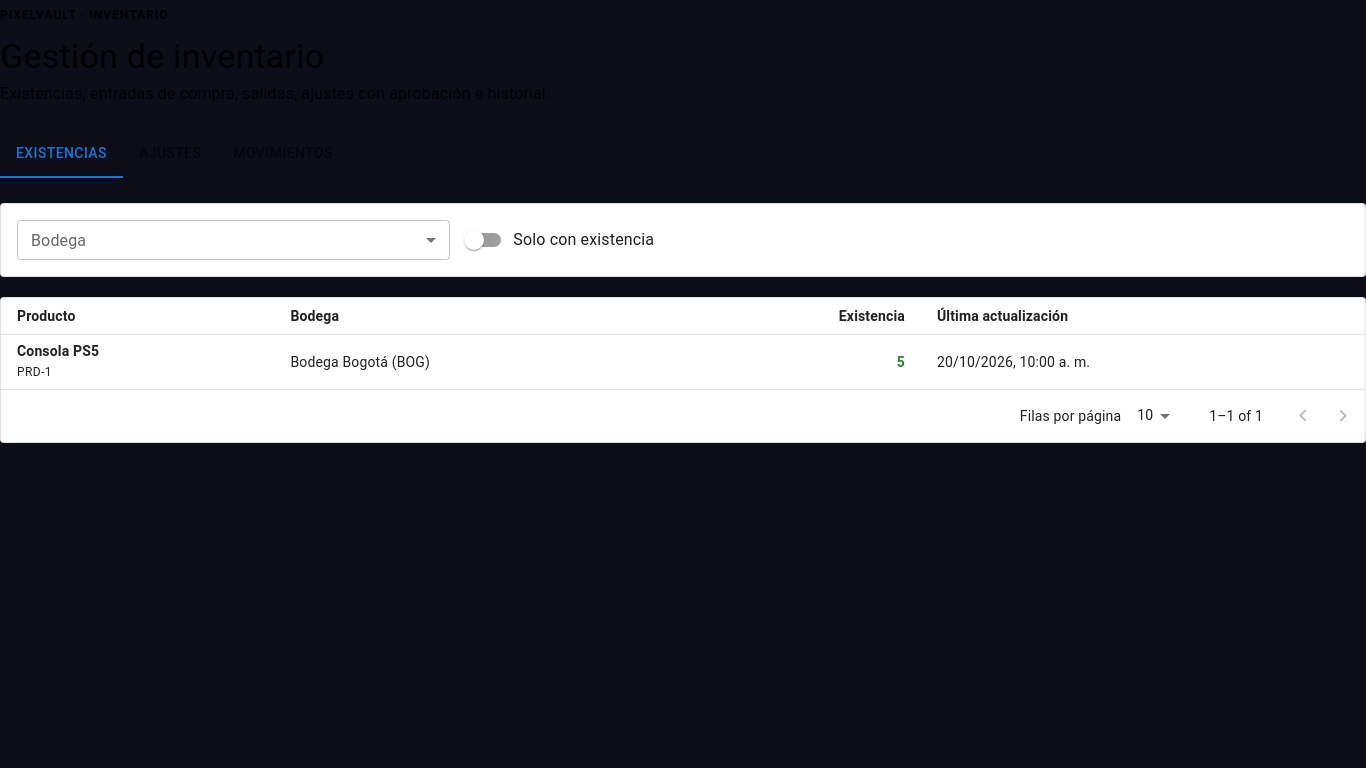
InventoryPage › works for the technical expert even when optional references are forbidden
Expected: the text "Consola PS5" is shown, [17,343,99,359]
Click the tab "Ajustes" at (170, 154), box [123,130,217,178]
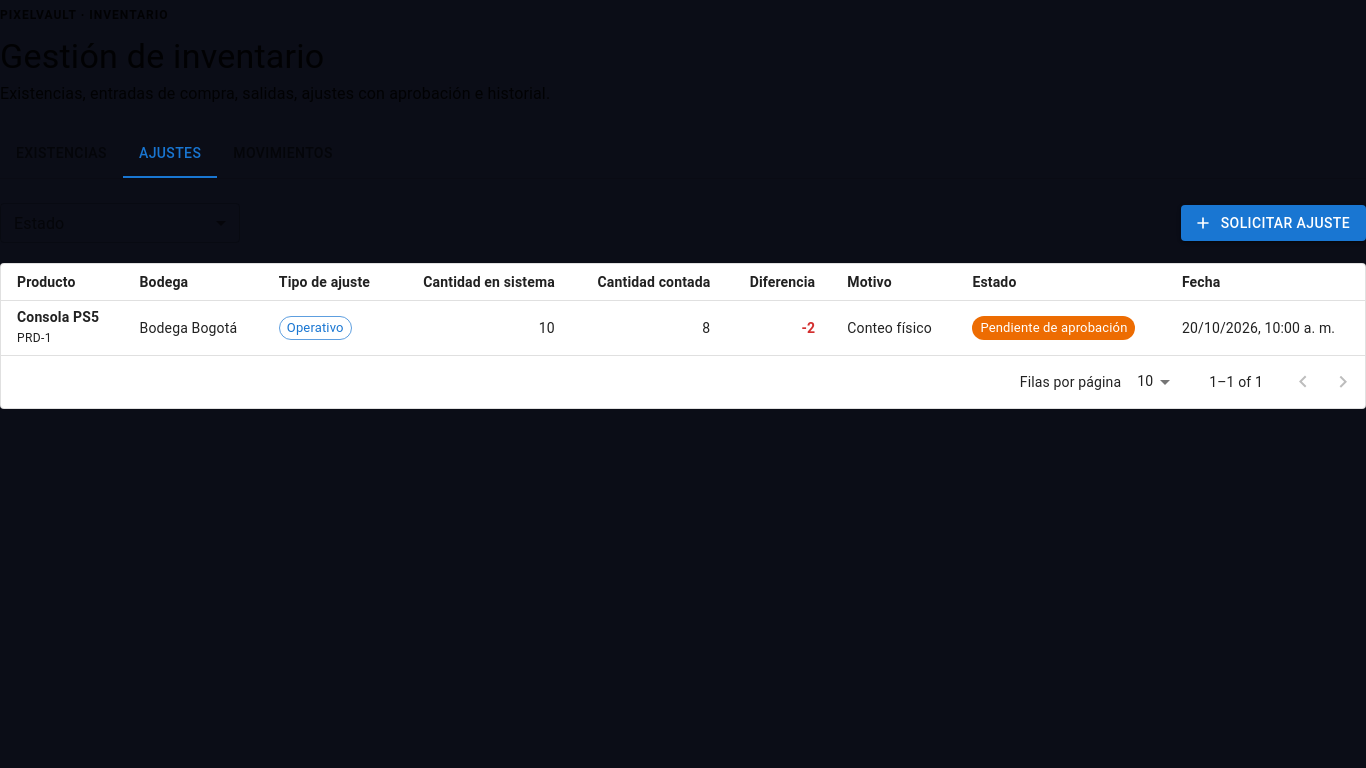
Click the button "Solicitar ajuste" at (1273, 223), box [1181,205,1365,241]
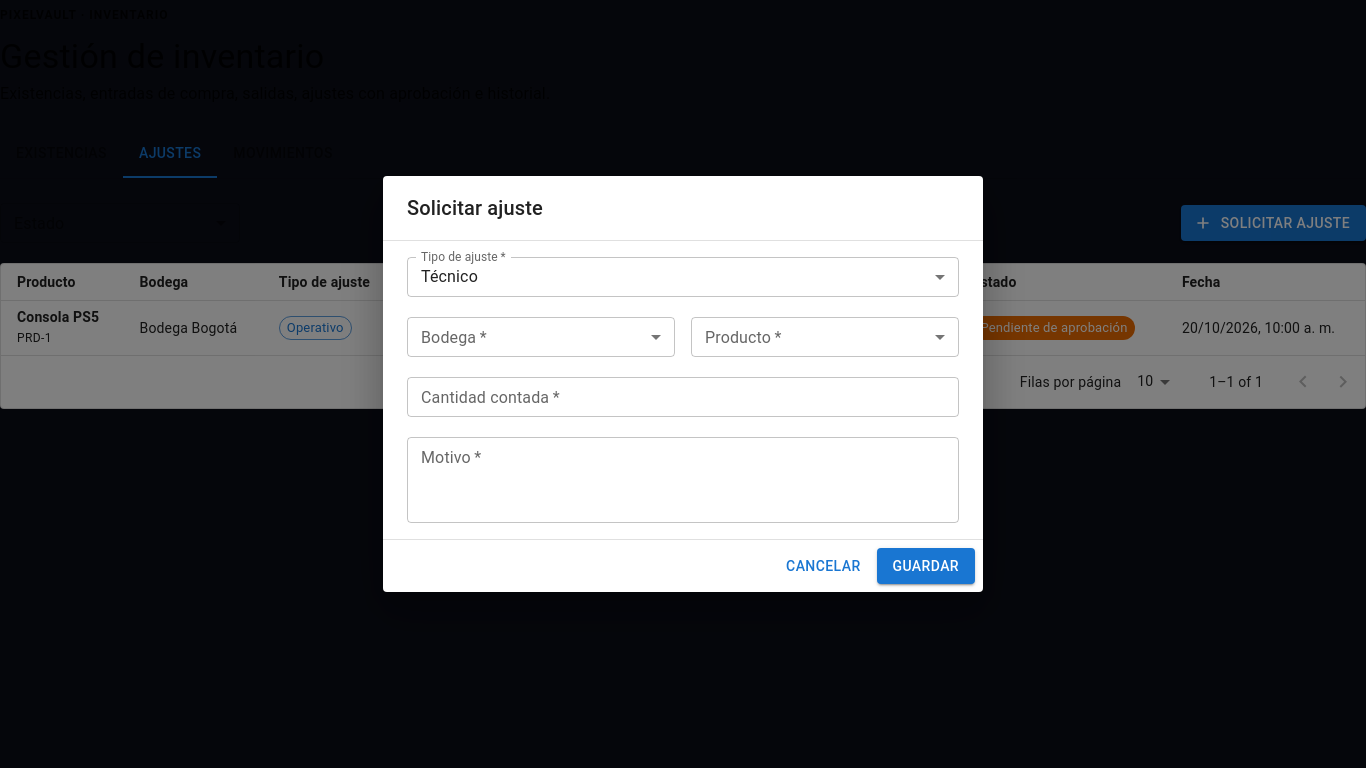
Result: the dropdown named "Tipo de ajuste" reads "Técnico" at [421,267,478,286]
Click the button "Guardar" at (926, 566), box [876,548,975,584]
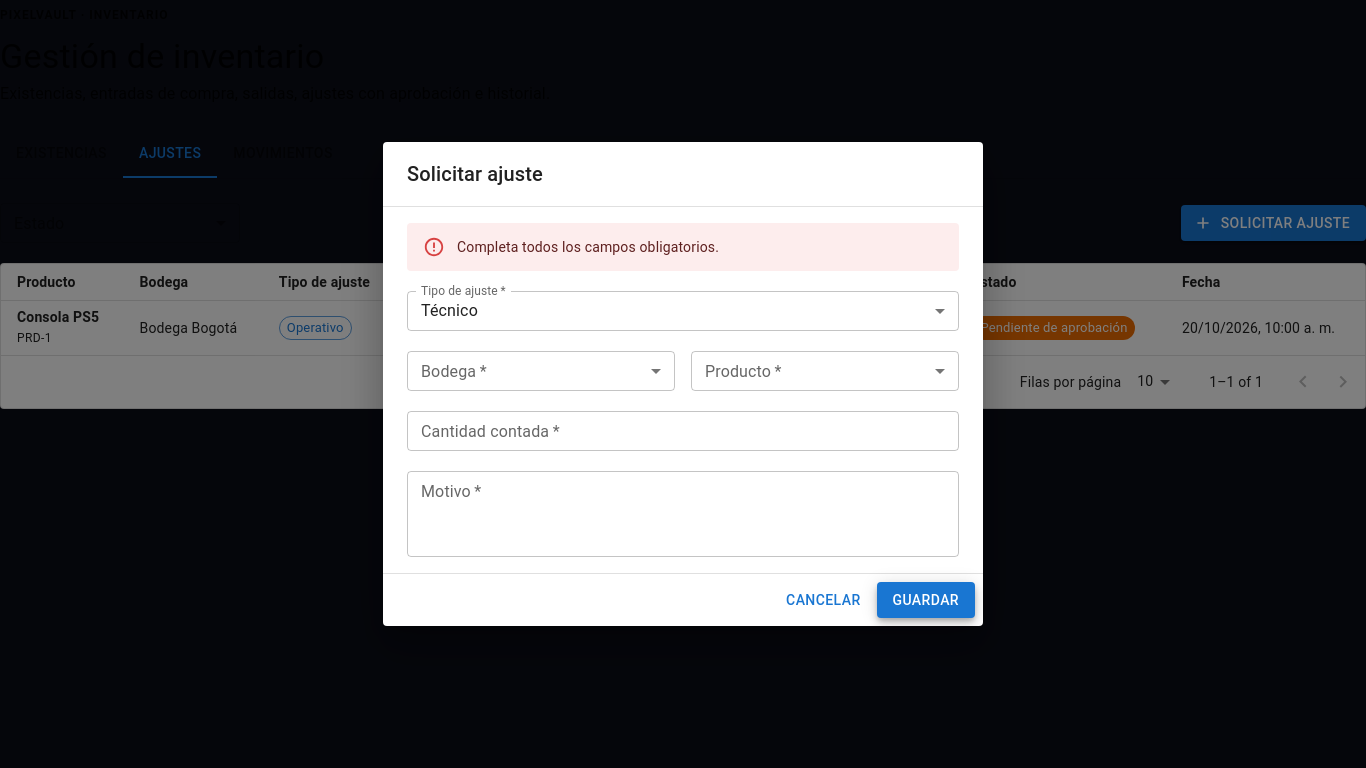
Result: the text "Completa todos los campos obligatorios." is shown at [457,239,719,255]
